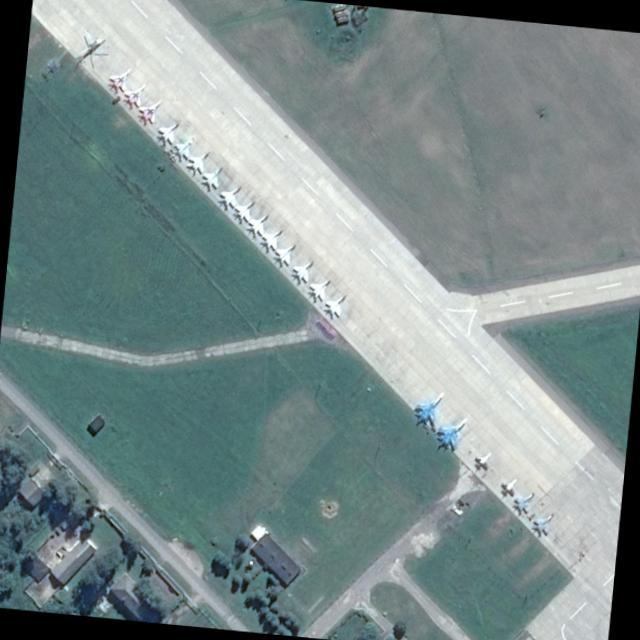plane: (407, 382, 455, 434), (428, 409, 476, 458), (133, 93, 168, 130), (104, 61, 139, 96), (118, 78, 153, 113), (166, 132, 201, 166), (213, 179, 247, 214), (319, 289, 353, 323), (526, 507, 559, 541), (182, 146, 215, 180), (197, 161, 230, 195), (287, 254, 320, 288), (151, 116, 184, 149), (243, 208, 276, 241), (303, 273, 336, 306), (270, 239, 302, 271), (230, 195, 261, 227), (256, 225, 288, 256), (509, 488, 538, 519), (494, 474, 523, 504), (468, 449, 496, 476)
